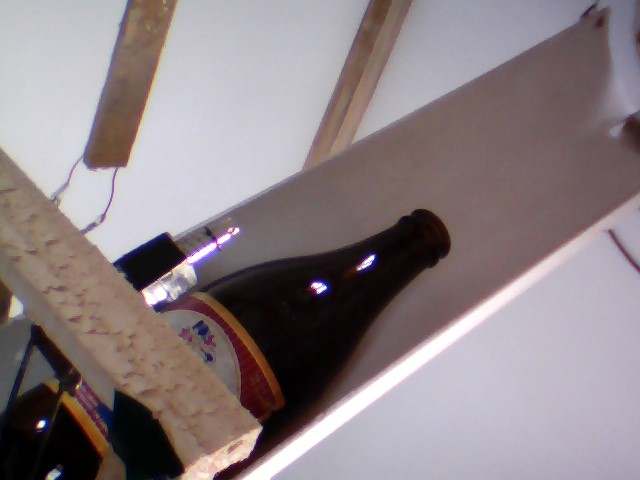vidrio: (176, 198, 463, 446)
